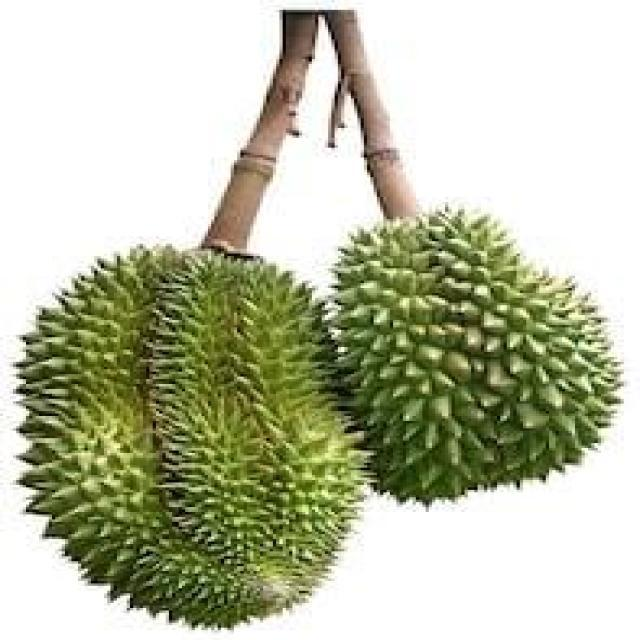immature: (13, 240, 378, 629), (326, 201, 628, 507)
